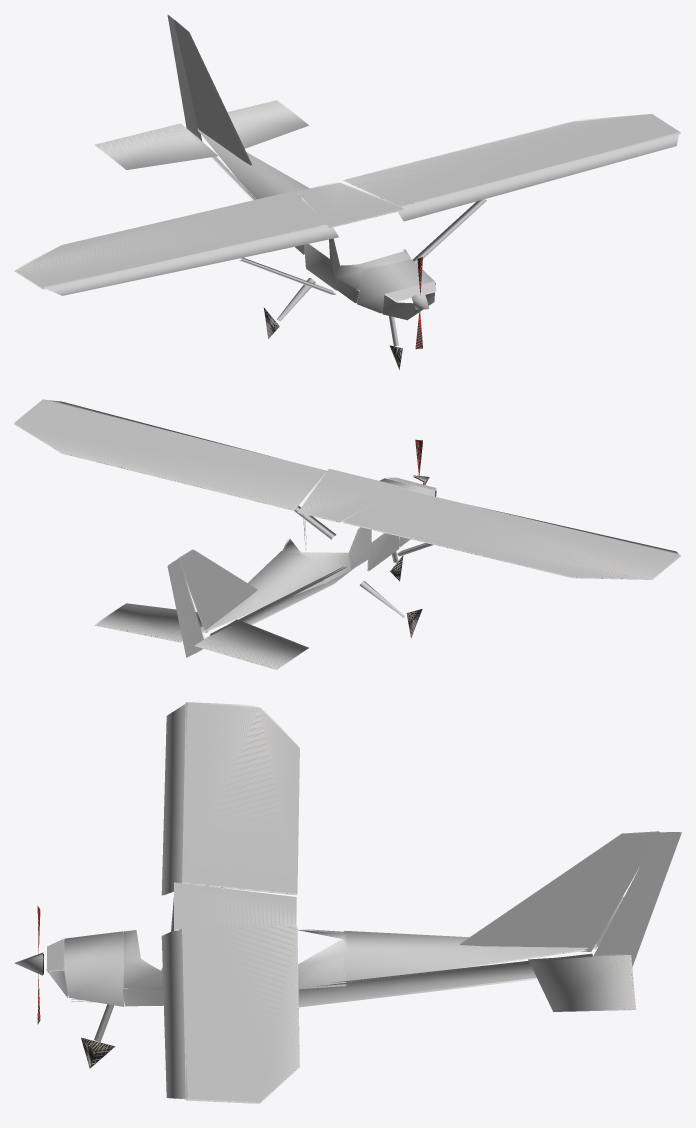
3 renders of one model, top to bottom at view 1: azimuth 30°, elevation 25°; view 2: azimuth 150°, elevation 25°; view 3: azimuth 270°, elevation 25°, orthographic. The views are drawn at different scales.
Parts seen in each view (by area): view 1: fuselage_Frost, fuselage_Frost001, fuselage, Rudder_Frost, Rudder_Frost001; view 2: fuselage_Frost, fuselage_Frost001, fuselage, Rudder_Frost, Rudder_Frost001, RUDDER_2; view 3: fuselage_Frost, fuselage_Frost001, fuselage, Rudder_Frost, Rudder_Frost001, RUDDER_2.
Boxes of the visible parts, left/top/right/bottom form: fuselage_Frost: left=19, top=20, right=680, bottom=320; fuselage_Frost001: left=21, top=104, right=631, bottom=292; fuselage: left=14, top=20, right=680, bottom=313; Rudder_Frost: left=167, top=15, right=198, bottom=136; Rudder_Frost001: left=174, top=40, right=197, bottom=135; fuselage_Frost: left=14, top=399, right=680, bottom=664; fuselage_Frost001: left=25, top=429, right=674, bottom=664; fuselage: left=14, top=424, right=680, bottom=669; Rudder_Frost: left=167, top=559, right=202, bottom=657; Rudder_Frost001: left=175, top=576, right=202, bottom=654; RUDDER_2: left=168, top=559, right=203, bottom=652; fuselage_Frost: left=46, top=702, right=659, bottom=1102; fuselage_Frost001: left=196, top=703, right=620, bottom=1094; fuselage: left=47, top=705, right=659, bottom=1103; Rudder_Frost: left=596, top=832, right=681, bottom=966; Rudder_Frost001: left=597, top=862, right=643, bottom=954; RUDDER_2: left=593, top=832, right=679, bottom=956.
Size of what is drawn, in the model's own units: 10.2 by 2.85 by 7.23.
